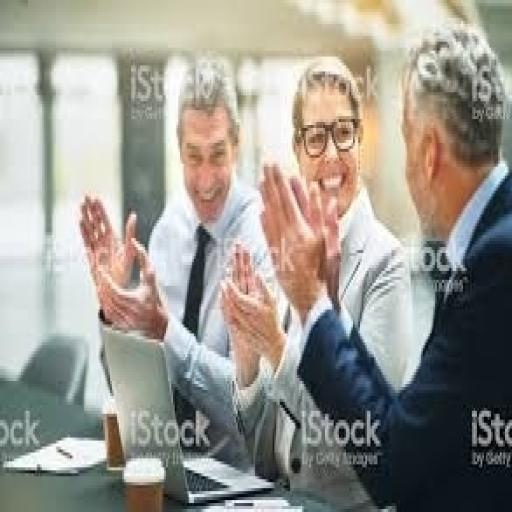clapping: (220, 21, 510, 509), (75, 54, 287, 473)
